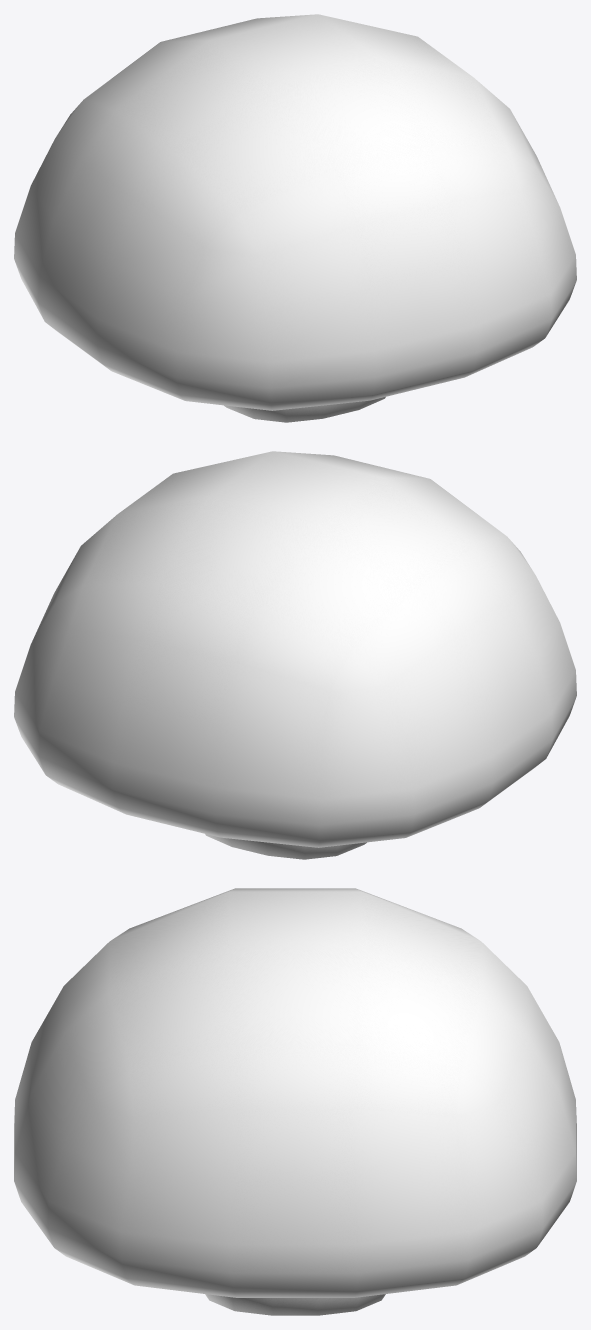
File: mushroom_uncut.fbx
The picture shows the model from 3 angles, top to bottom: view 1: azimuth 30°, elevation 25°; view 2: azimuth 150°, elevation 25°; view 3: azimuth 270°, elevation 25°; orthographic projection. The views are drawn at different scales.
Parts seen in each view (by area): view 1: Mushroom; view 2: Mushroom; view 3: Mushroom.
Part boxes in pixels (x1=…): Mushroom: x1=14, y1=14, x2=576, y2=422; Mushroom: x1=14, y1=451, x2=576, y2=859; Mushroom: x1=14, y1=888, x2=576, y2=1315.
Bounding box in the file's own units: 148 × 107 × 148.
